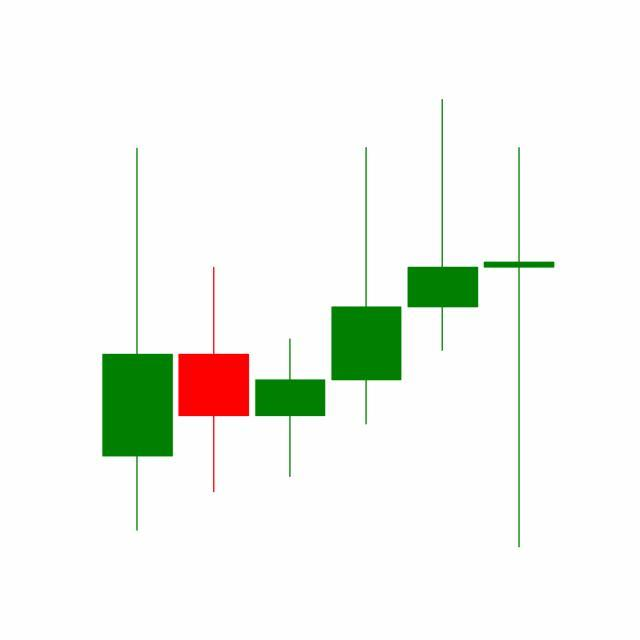Spinning Top: (404, 97, 482, 355)
